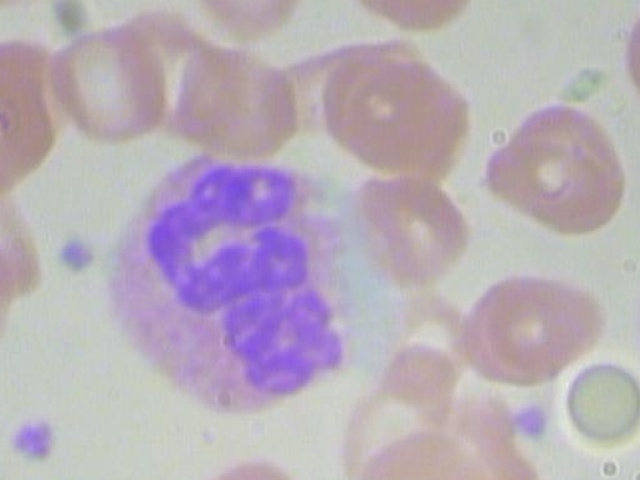Platelets: (56, 232, 104, 283), (8, 411, 56, 462), (511, 400, 550, 443)
WBC: (100, 142, 377, 419)
